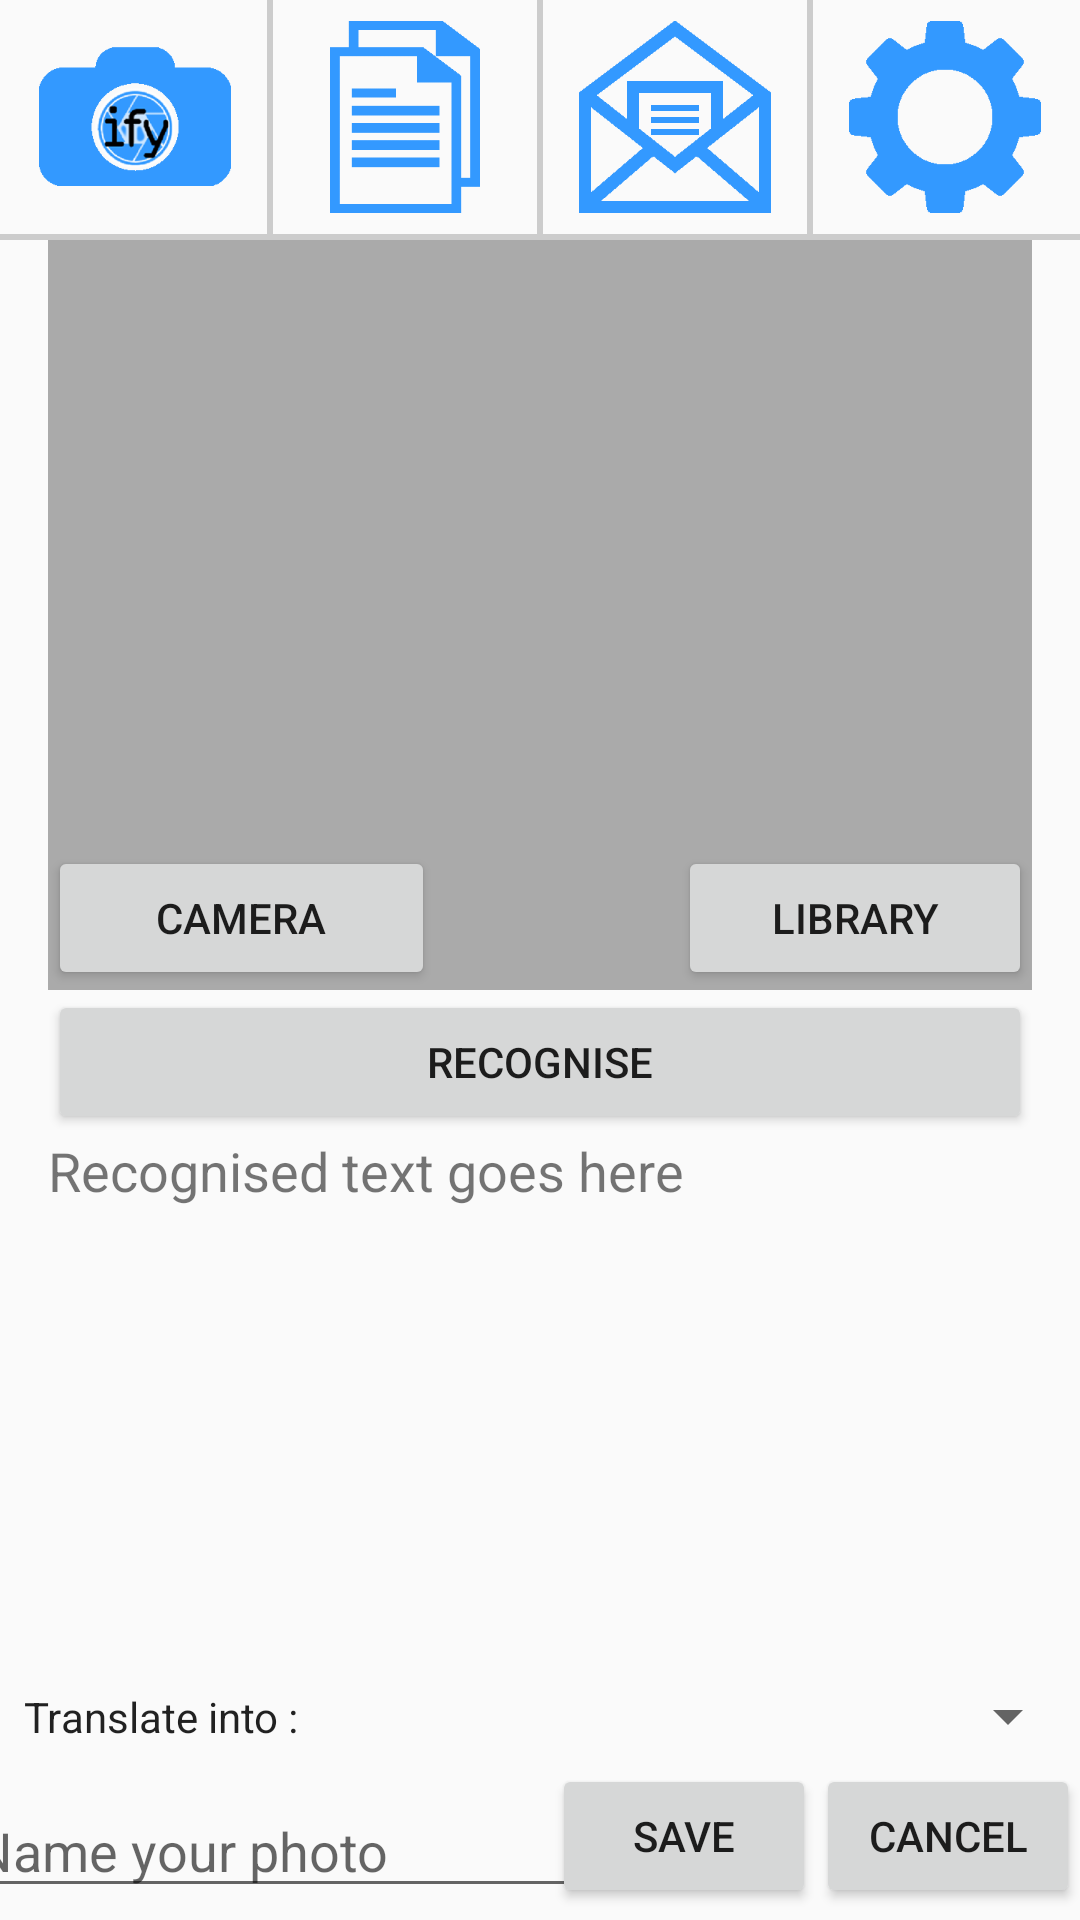

Where icons sit on this 1080*1920 app screen, as (x1, y1, x2, y2):
camera: (0, 0, 267, 234)
file: (273, 0, 537, 234)
gear: (813, 0, 1080, 234)
